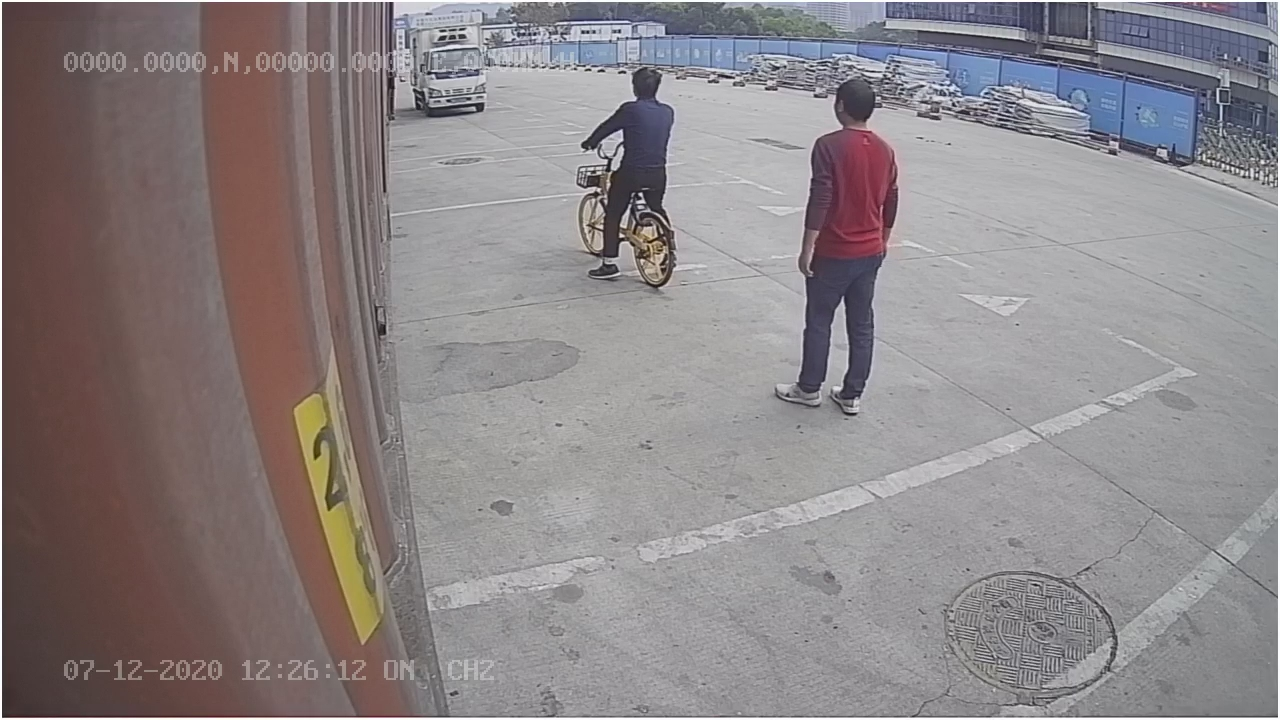person: (770, 75, 905, 417)
